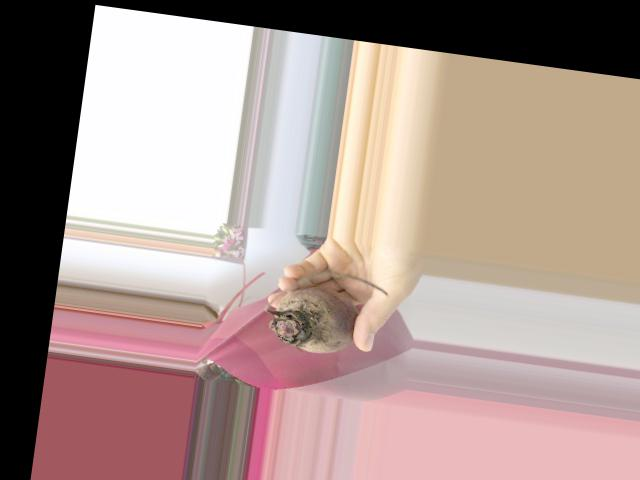beet: (258, 263, 390, 361)
